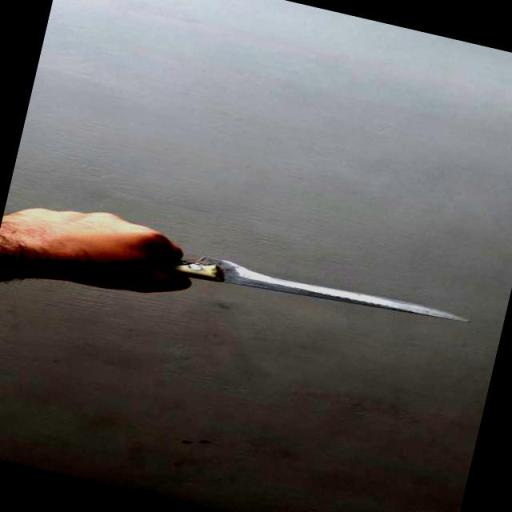knife: (97, 223, 486, 350)
